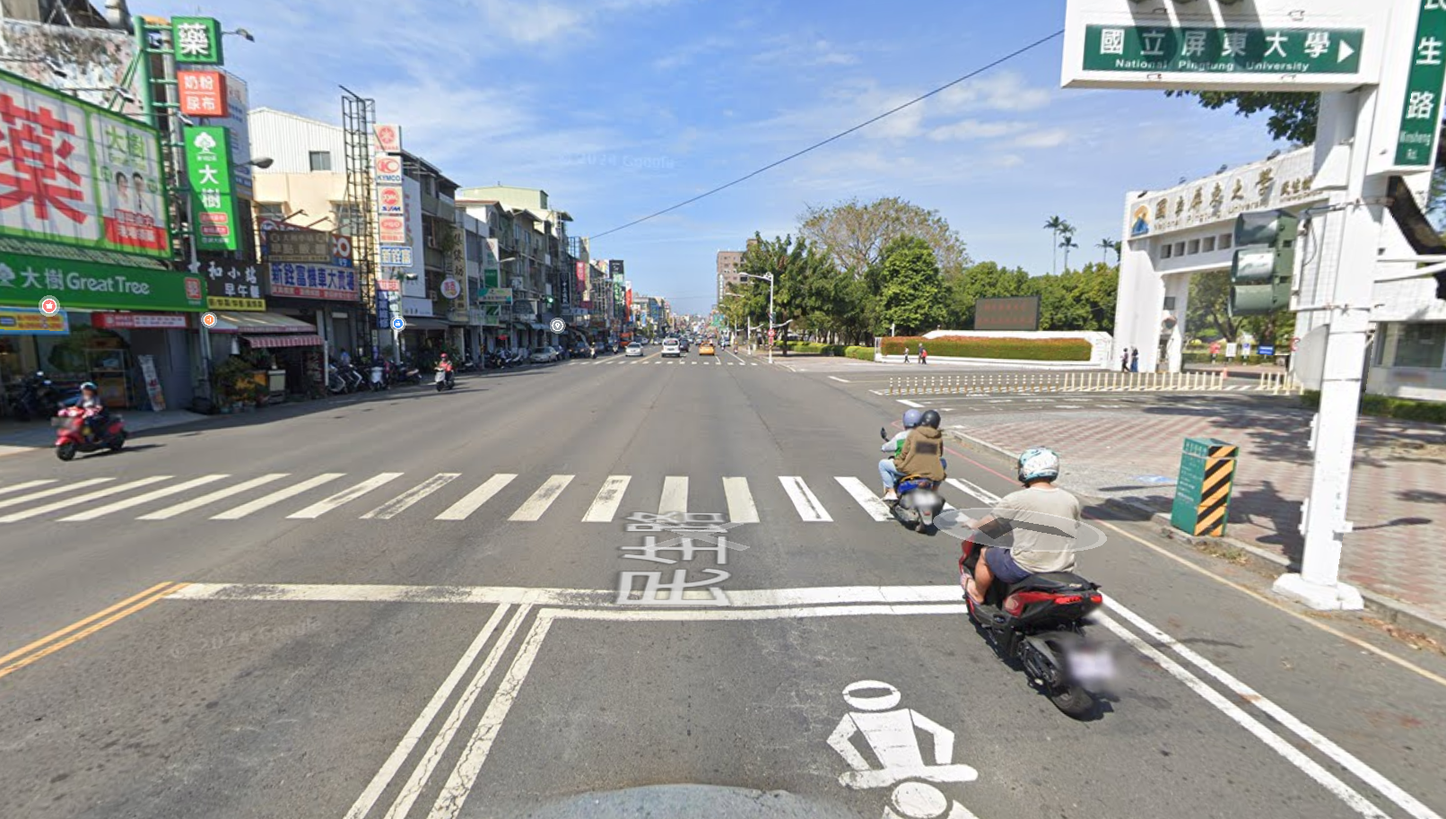green: (533, 292, 554, 303)
